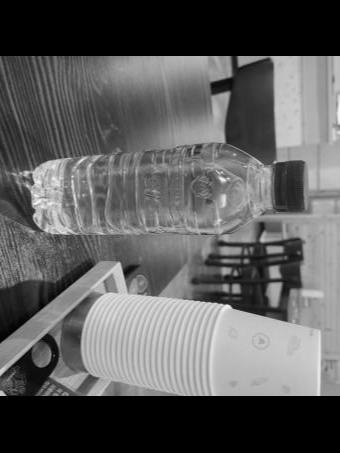bottle: (33, 142, 305, 238)
